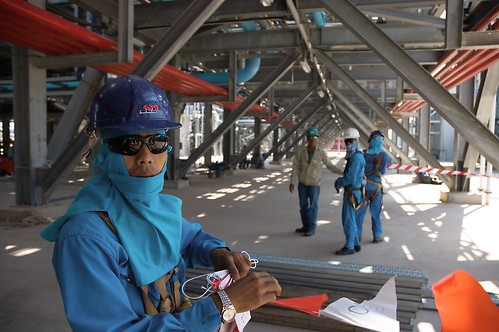person hardhat: (50, 77, 263, 332), (288, 125, 332, 240), (362, 131, 393, 253), (336, 126, 362, 256)
